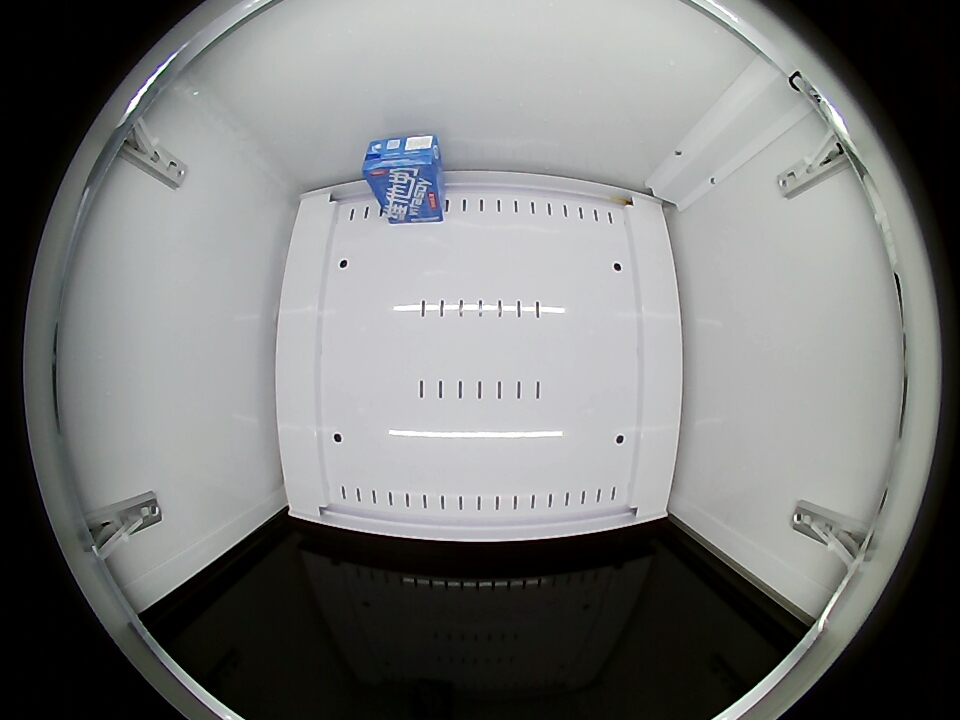weitanai: (362, 135, 442, 187)
